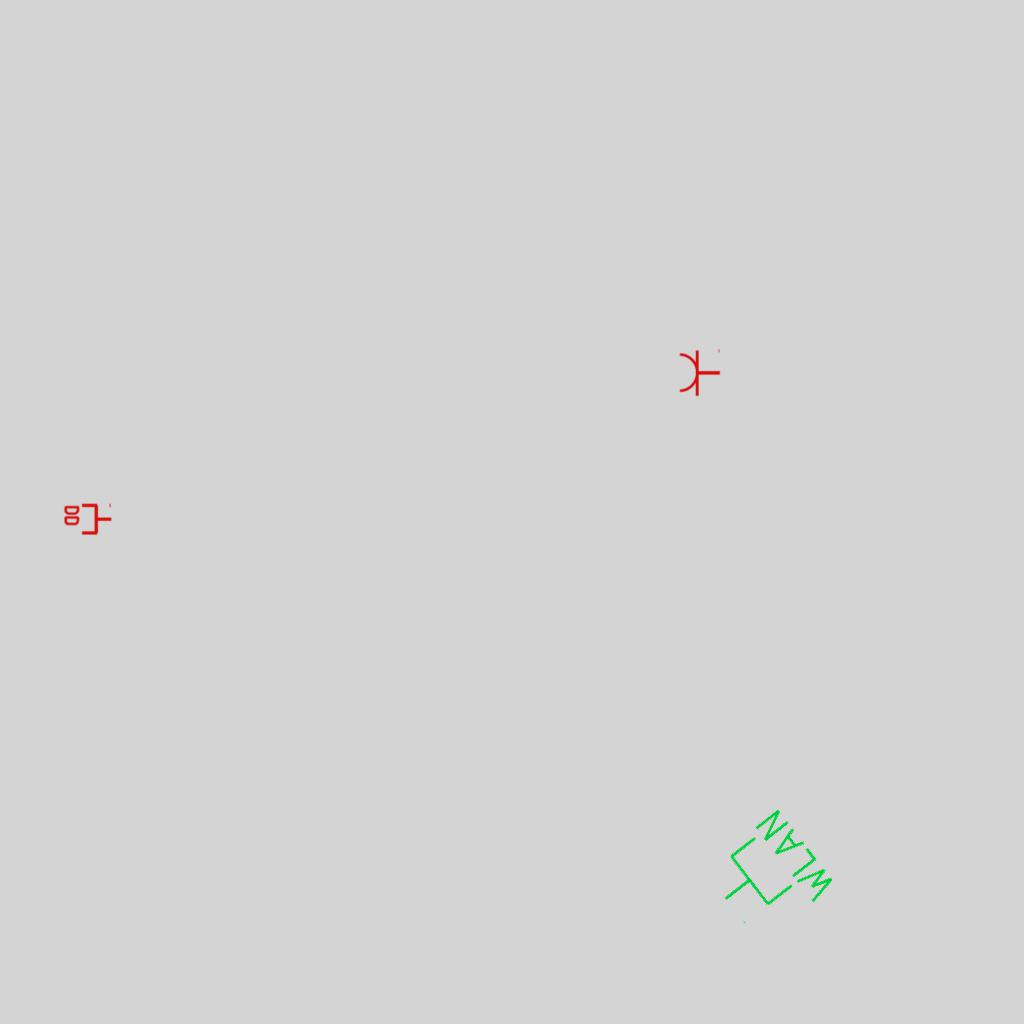Datenanschluss_zweifach: (62, 503, 113, 537)
Schukosteckdose_einfach: (678, 347, 721, 397)
WLAN: (696, 803, 844, 950)
